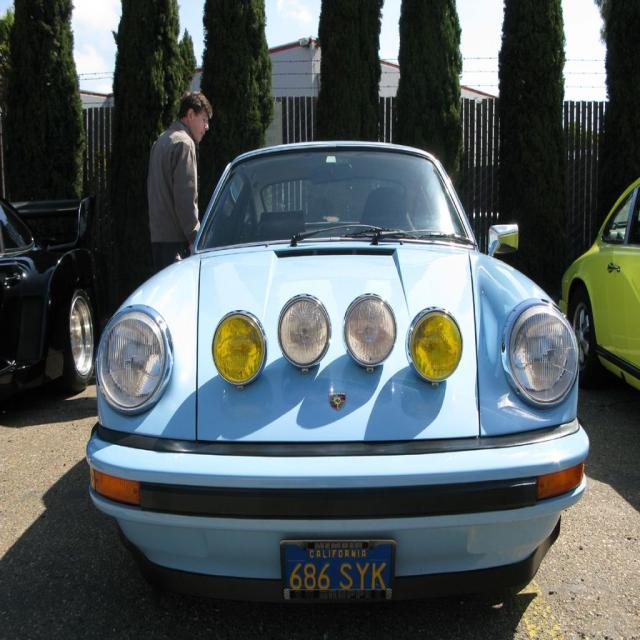car: (80, 133, 593, 622)
